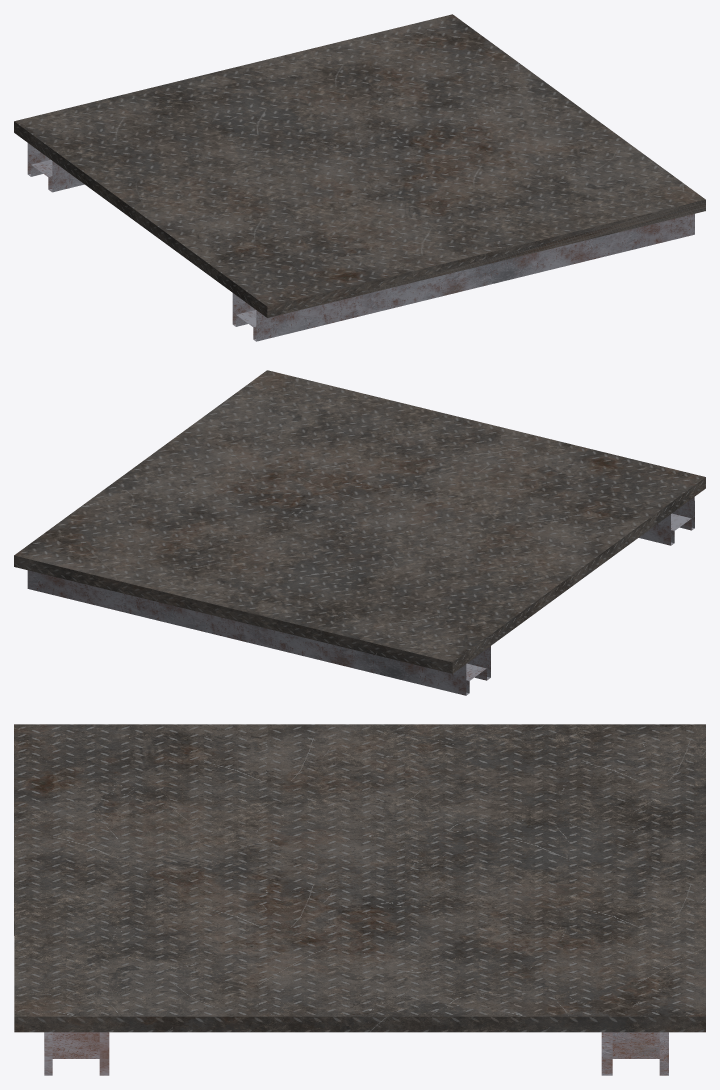
File: Factory1Stairs02.FBX
The picture shows the model from 3 angles, top to bottom: view 1: azimuth 30°, elevation 25°; view 2: azimuth 150°, elevation 25°; view 3: azimuth 270°, elevation 25°; orthographic projection. The views are drawn at different scales.
Visible parts, largest first — view 1: Factory1Stairs02; view 2: Factory1Stairs02; view 3: Factory1Stairs02.
Boxes of the visible parts, <box> form: Factory1Stairs02: <box>14,14,705,341</box>; Factory1Stairs02: <box>14,370,705,695</box>; Factory1Stairs02: <box>14,724,705,1075</box>.
Bounding box in the file's own units: 250 × 23.55 × 250.
